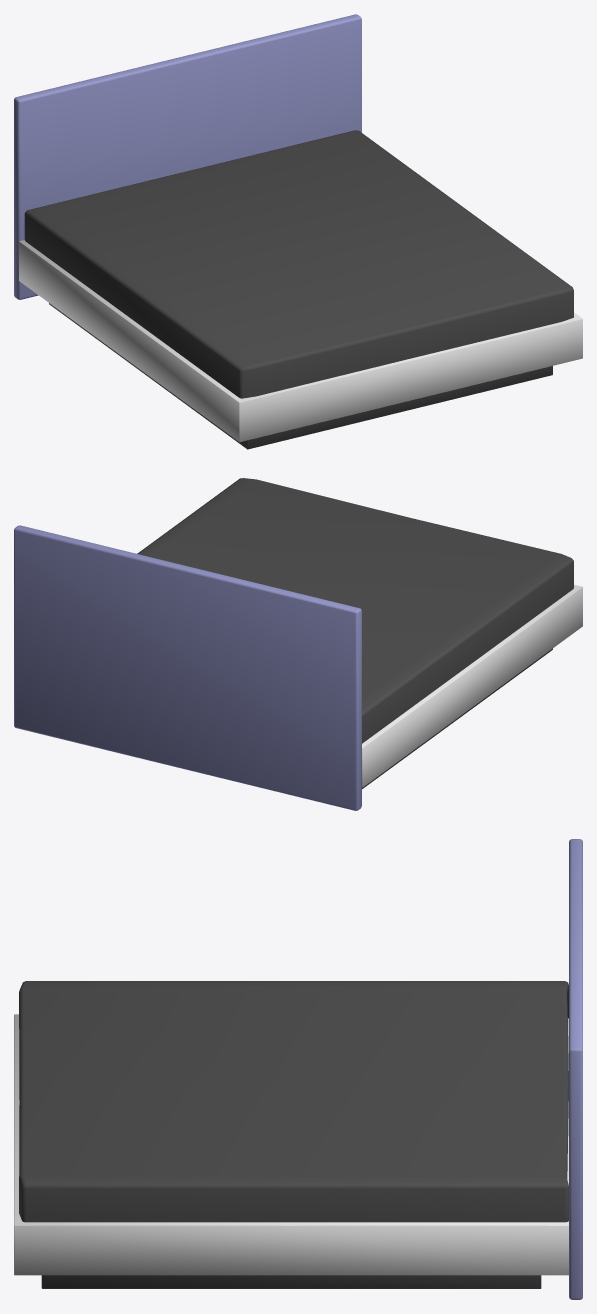
Rendered from MZCBD04C.FBX.
3 renders of one model, top to bottom at view 1: azimuth 30°, elevation 25°; view 2: azimuth 150°, elevation 25°; view 3: azimuth 270°, elevation 25°, orthographic. The views are drawn at different scales.
Parts seen in each view (by area): view 1: MZCBD04C; view 2: MZCBD04C; view 3: MZCBD04C.
Part boxes in pixels (<box>): MZCBD04C: <box>14,14,582,449</box>; MZCBD04C: <box>14,478,582,810</box>; MZCBD04C: <box>14,839,582,1299</box>.
Size of the model in its own units: 180 by 205 by 100.
